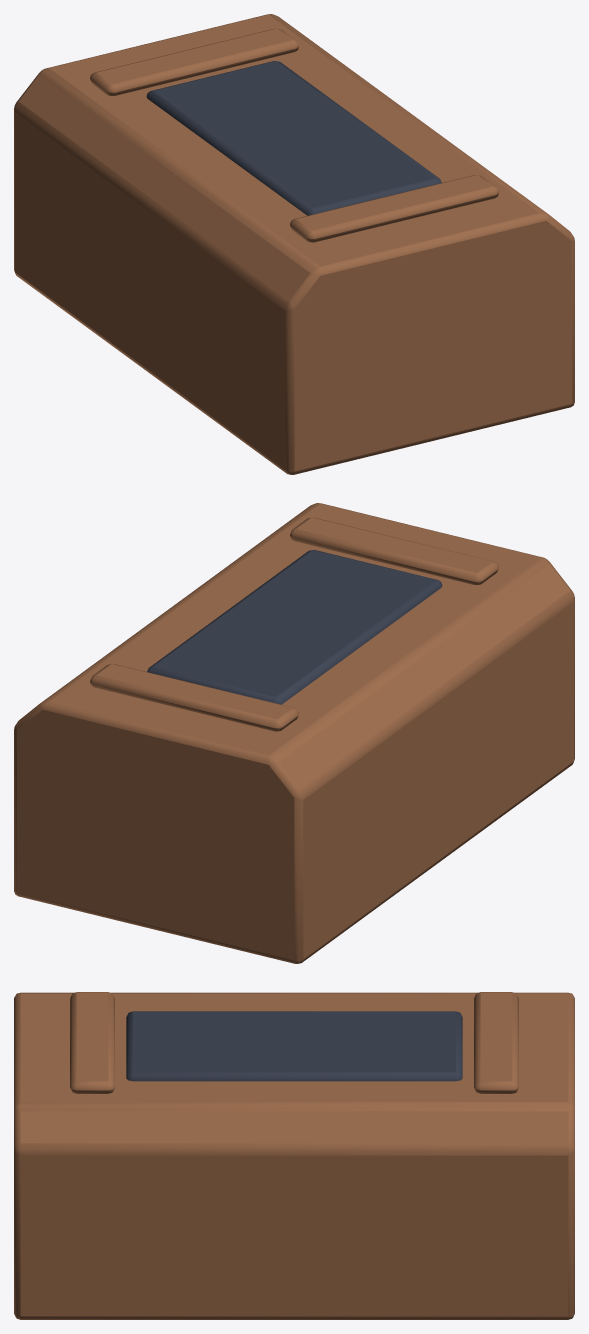
The model's file is ware_tholinziegel.fbx.
The picture shows the model from 3 angles, top to bottom: view 1: azimuth 30°, elevation 25°; view 2: azimuth 150°, elevation 25°; view 3: azimuth 270°, elevation 25°; orthographic projection.
Parts seen in each view (by area): view 1: ware_tholinziegel_Koerper; view 2: ware_tholinziegel_Koerper; view 3: ware_tholinziegel_Koerper.
Part boxes in pixels (x1=…): ware_tholinziegel_Koerper: x1=14, y1=14, x2=574, y2=474; ware_tholinziegel_Koerper: x1=14, y1=503, x2=574, y2=963; ware_tholinziegel_Koerper: x1=14, y1=992, x2=574, y2=1319.
Bounding box in the file's own units: 0.3 × 0.211 × 0.5.
